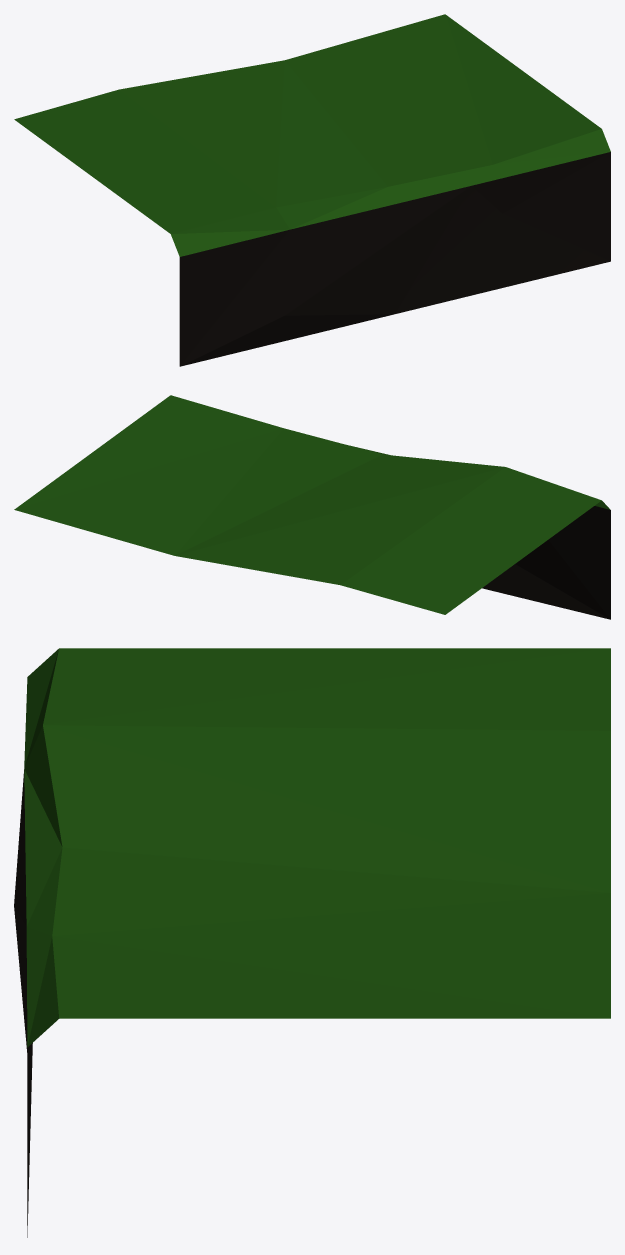
Rendered from 2D_Ground_Top_2B.fbx.
3 renders of one model, top to bottom at view 1: azimuth 30°, elevation 25°; view 2: azimuth 150°, elevation 25°; view 3: azimuth 270°, elevation 25°, orthographic. The views are drawn at different scales.
Visible parts, largest first — view 1: 2D_Ground_Top_2B; view 2: 2D_Ground_Top_2B; view 3: 2D_Ground_Top_2B.
Part boxes in pixels (box(x1,y1,x2,y2)): 2D_Ground_Top_2B: box(14, 14, 610, 366); 2D_Ground_Top_2B: box(14, 395, 610, 619); 2D_Ground_Top_2B: box(14, 648, 610, 1237).
Size of the model in its own units: 1303 by 380 by 887.
